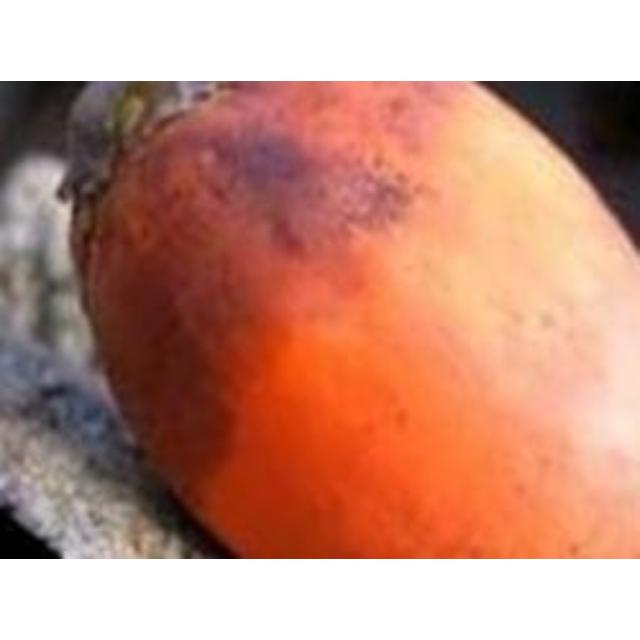good: (59, 81, 637, 557)
